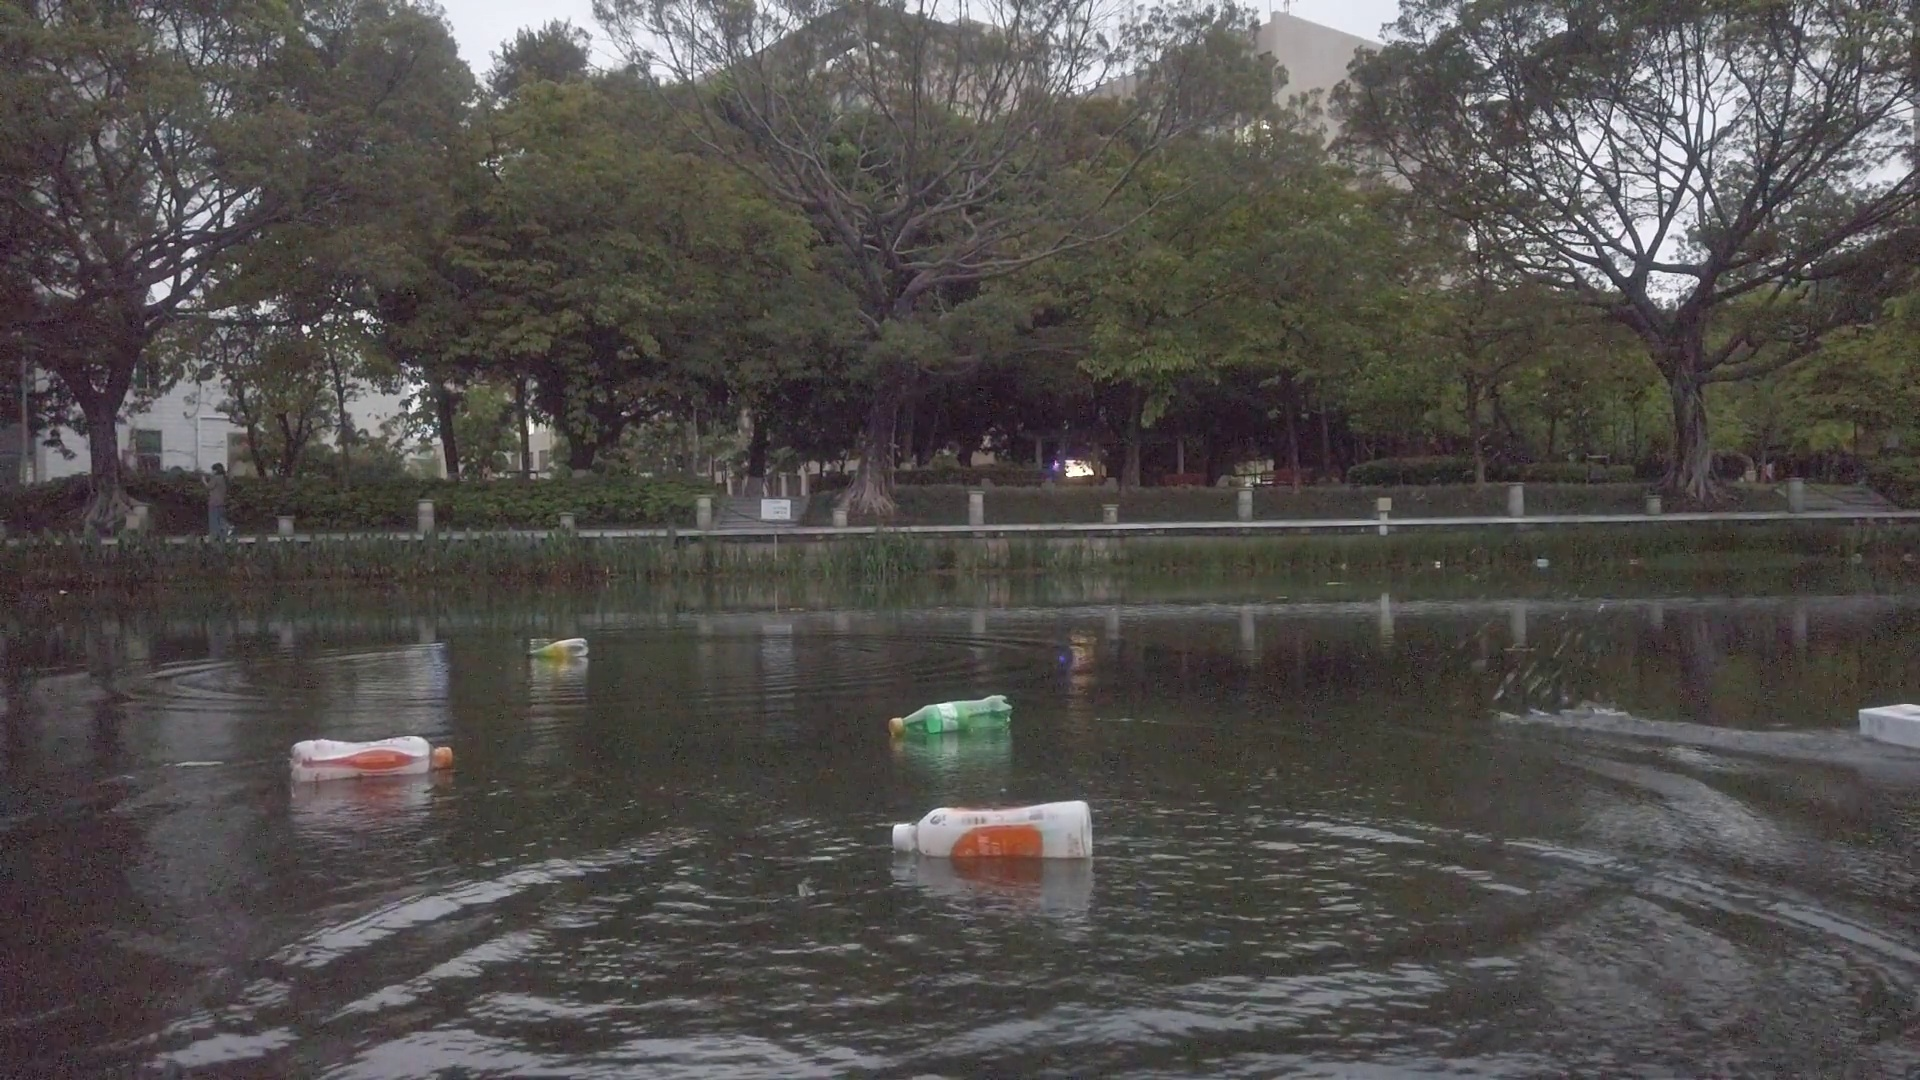bottle: (890, 799, 1097, 861), (291, 733, 454, 785), (889, 692, 1015, 742), (525, 638, 589, 666)
carton: (1859, 700, 1920, 750), (1532, 555, 1553, 572)
